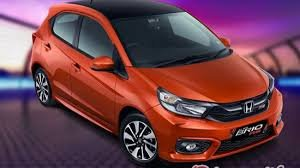mobil: (29, 2, 298, 168)
